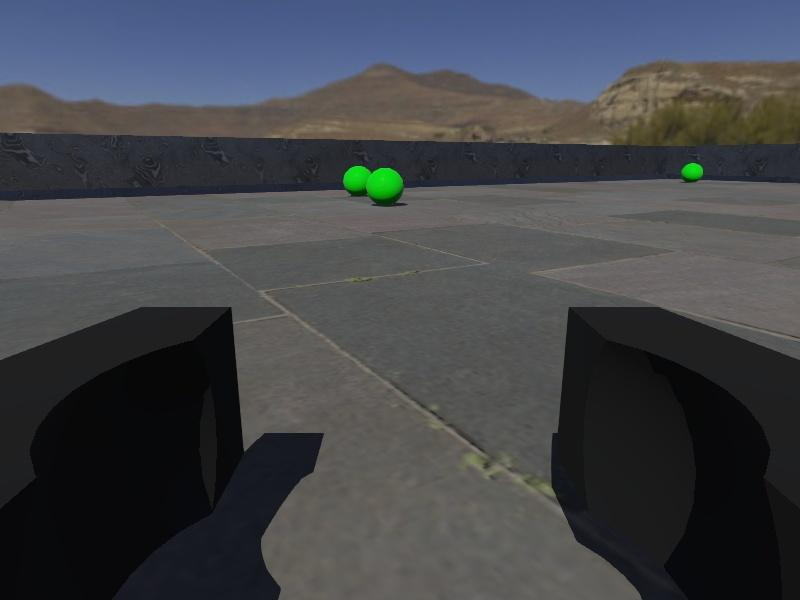green ball: (365, 166, 405, 205), (681, 161, 705, 183)
